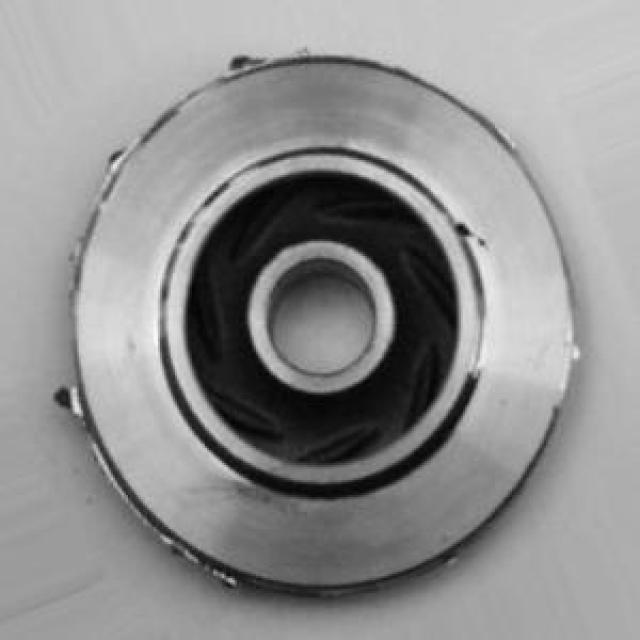Defect: (449, 212, 492, 251)
